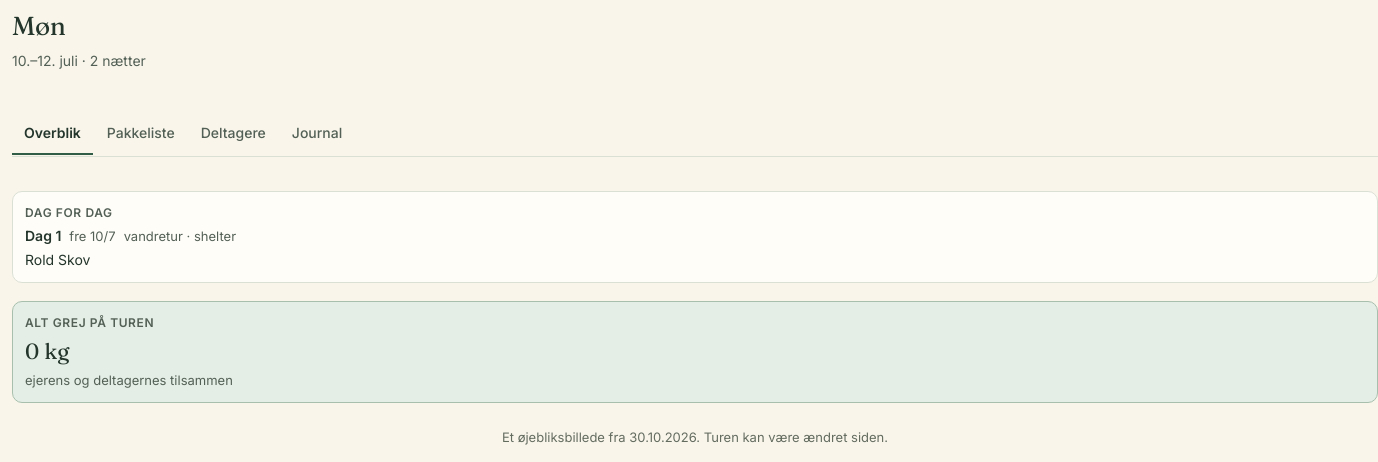
Test case: dagsplanen på gæstens overblik › står på Overblik og ikke i en fane for sig
This screenshot has width=1378, height=462.
Går man til en anden fane, følger dagene ikke med.
Click the tab "Journal" at (317, 133), box x1=280 y1=111 x2=354 y2=155
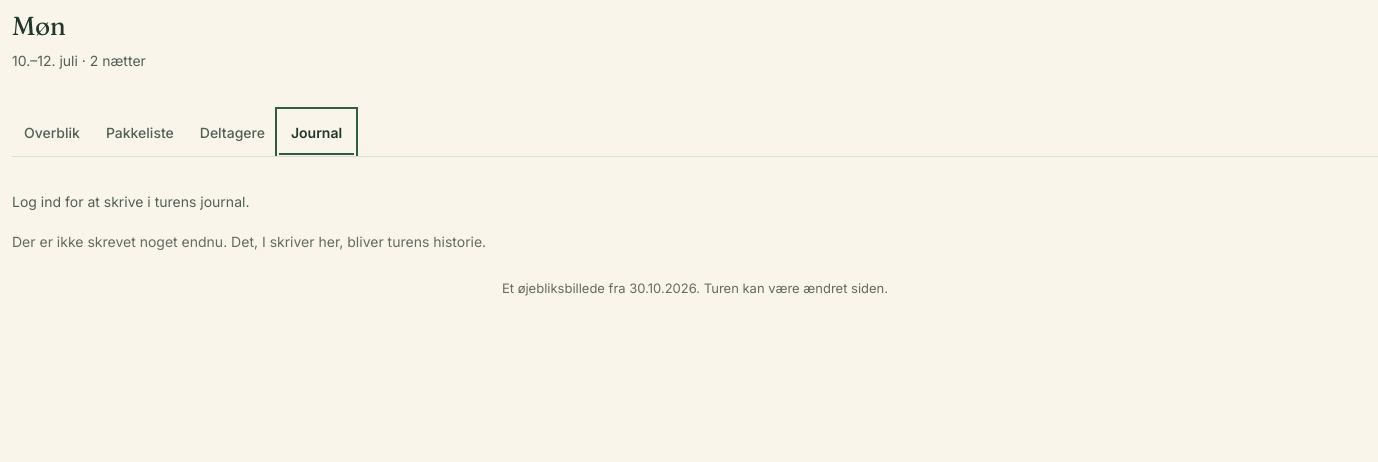
Expected: the text "Dag for dag" is gone
